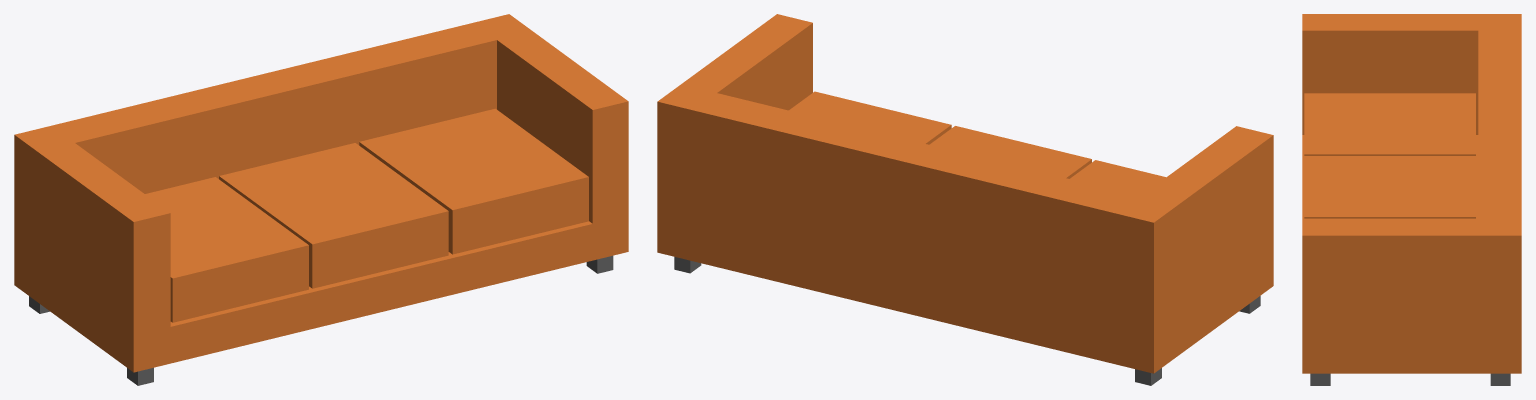
File: couch.fbx
3 views of the same model, side by side, from view 1: azimuth 30°, elevation 25°; view 2: azimuth 150°, elevation 25°; view 3: azimuth 270°, elevation 25° (orthographic). The views are drawn at different scales.
Visible parts, largest first — view 1: couch; view 2: couch; view 3: couch.
Boxes of the visible parts, x1,y1,x2,y2 form: couch: [14, 14, 628, 385]; couch: [657, 14, 1273, 385]; couch: [1302, 14, 1521, 385].
Bounding box in the file's own units: 210 × 68.5 × 87.62.
